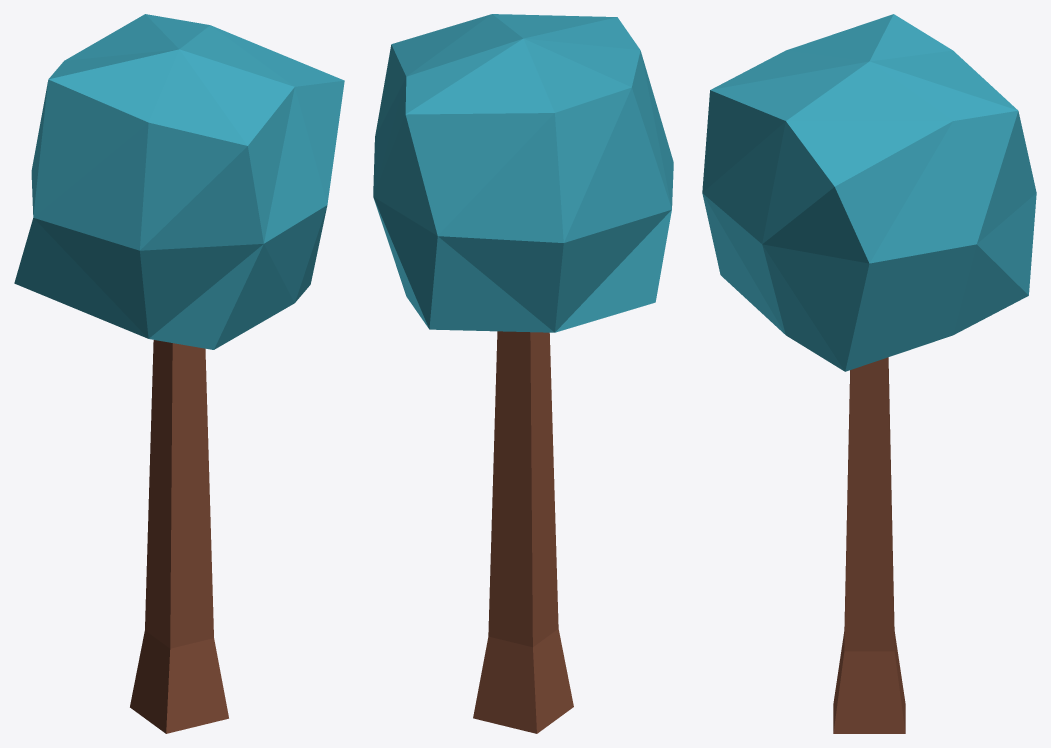
File: Tree_42_summer_blue_mat.fbx
3 views of the same model, side by side, from view 1: azimuth 30°, elevation 25°; view 2: azimuth 150°, elevation 25°; view 3: azimuth 270°, elevation 25° (orthographic). The views are drawn at different scales.
Parts seen in each view (by area): view 1: Tree_42_summer_blue_mat; view 2: Tree_42_summer_blue_mat; view 3: Tree_42_summer_blue_mat.
Boxes of the visible parts, x1=… form: Tree_42_summer_blue_mat: x1=14, y1=14, x2=344, y2=733; Tree_42_summer_blue_mat: x1=373, y1=14, x2=673, y2=733; Tree_42_summer_blue_mat: x1=702, y1=14, x2=1036, y2=733.
Bounding box in the file's own units: 98.78 × 212 × 97.79.
